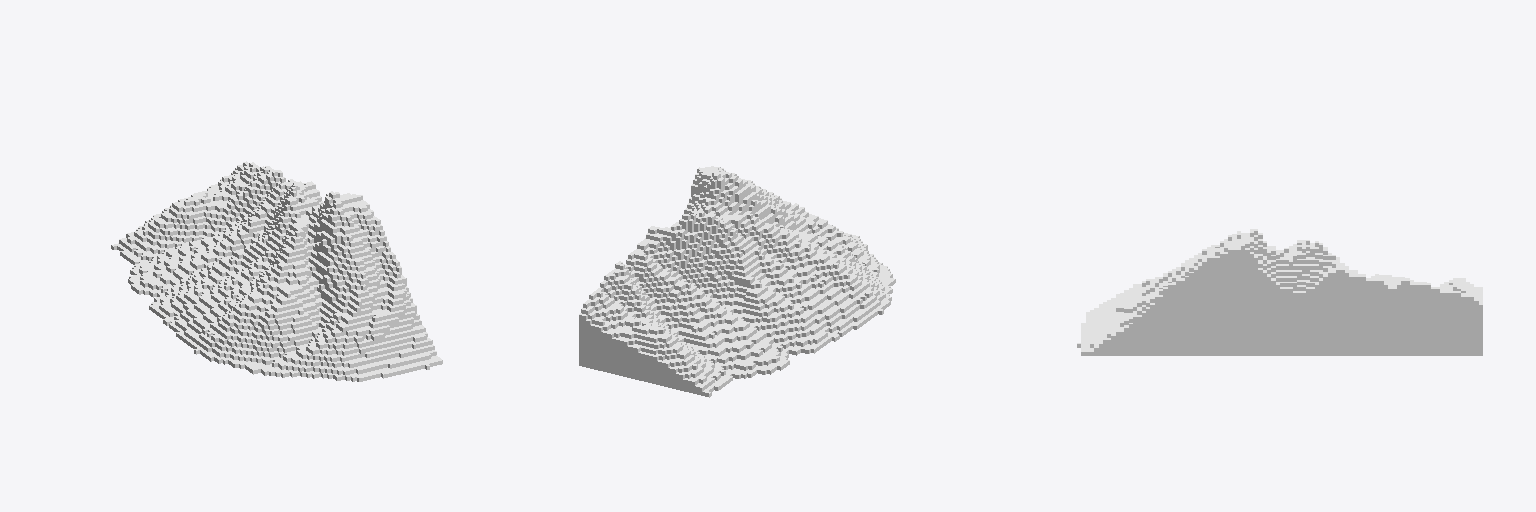
3 views of the same model, side by side, from view 1: azimuth 30°, elevation 25°; view 2: azimuth 150°, elevation 25°; view 3: azimuth 270°, elevation 25° (orthographic).
Visible parts, largest first — view 1: discord__-32_63_189_to_21_255_291; view 2: discord__-32_63_189_to_21_255_291; view 3: discord__-32_63_189_to_21_255_291.
Part boxes in pixels (x1,y1,x2,y2): discord__-32_63_189_to_21_255_291: (111,161,442,381); discord__-32_63_189_to_21_255_291: (579,166,895,397); discord__-32_63_189_to_21_255_291: (1077,229,1482,355).
Size of the model in its own units: 47 by 29 by 94.